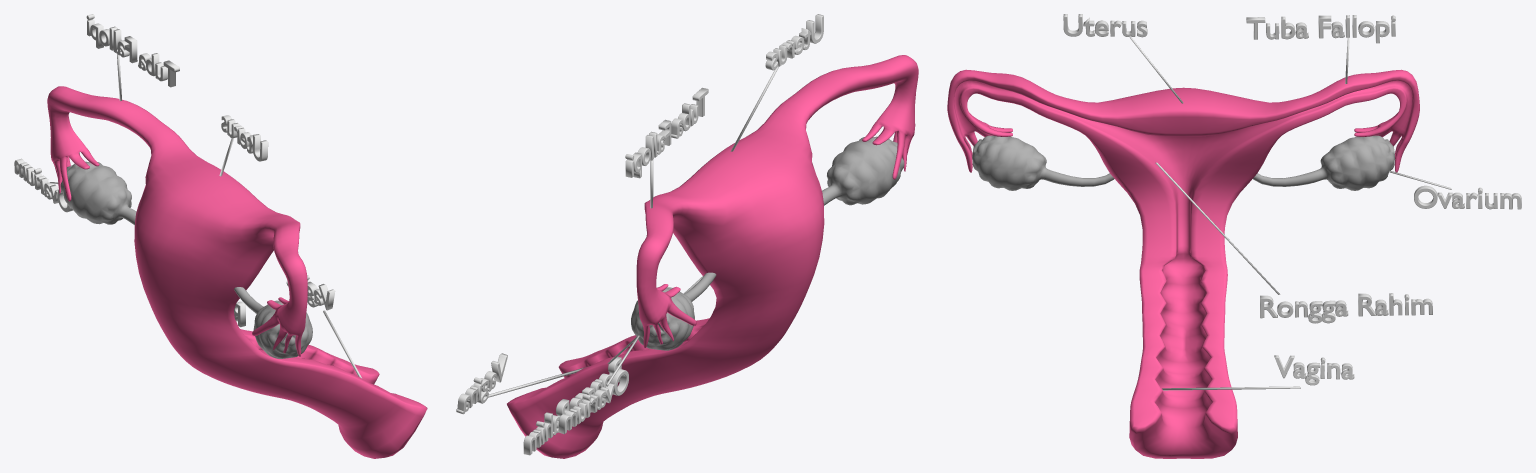
File: fase4b.fbx
3 views of the same model, side by side, from view 1: azimuth 30°, elevation 25°; view 2: azimuth 150°, elevation 25°; view 3: azimuth 270°, elevation 25° (orthographic). The views are drawn at different scales.
Visible parts, largest first — view 1: Cube.001, Sphere, tuba fallopi, ovarium, uterus, vagina; view 2: Cube.001, Sphere, tuba fallopi, dinding rahim, ovarium, uterus, vagina; view 3: Cube.001, Sphere, dinding rahim, tuba fallopi, ovarium, vagina, uterus.
Boxes of the visible parts, left/top/right/bottom form: Cube.001: left=47, top=86, right=427, bottom=458; Sphere: left=60, top=161, right=312, bottom=358; tuba fallopi: left=86, top=14, right=179, bottom=87; ovarium: left=14, top=158, right=73, bottom=212; uterus: left=221, top=115, right=268, bottom=161; vagina: left=286, top=275, right=335, bottom=310; Cube.001: left=507, top=55, right=918, bottom=458; Sphere: left=631, top=136, right=904, bottom=350; tuba fallopi: left=625, top=87, right=708, bottom=178; dinding rahim: left=523, top=357, right=621, bottom=455; ovarium: left=558, top=368, right=628, bottom=434; uterus: left=765, top=14, right=823, bottom=70; vagina: left=456, top=353, right=507, bottom=414; Cube.001: left=947, top=69, right=1419, bottom=458; Sphere: left=972, top=135, right=1394, bottom=190; dinding rahim: left=1260, top=293, right=1432, bottom=323; tuba fallopi: left=1246, top=15, right=1395, bottom=43; ovarium: left=1414, top=185, right=1521, bottom=209; vagina: left=1274, top=355, right=1354, bottom=385; uterus: left=1063, top=14, right=1147, bottom=37.
Bounding box in the file's own units: 74.77 × 108 × 152.
Materials: 10 (3 with a texture image).
